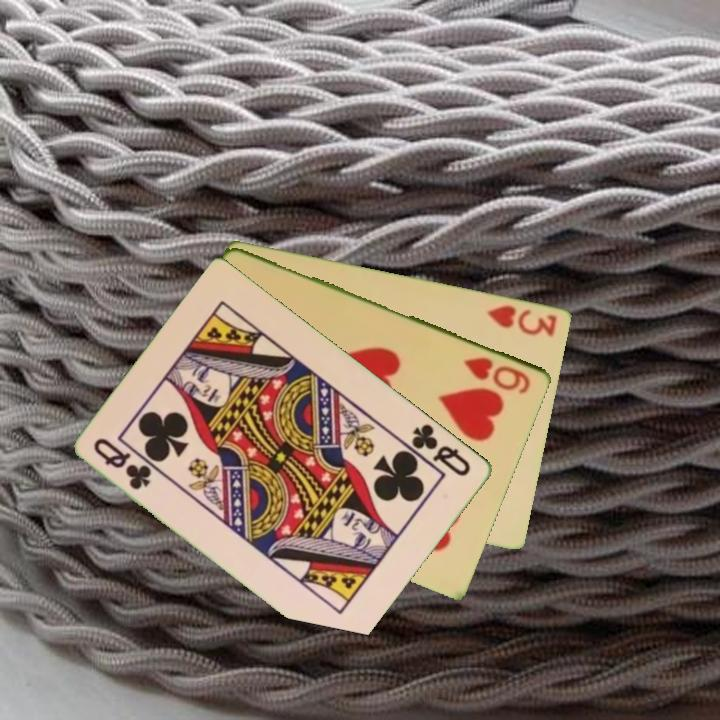3h: (484, 301, 561, 339)
6h: (460, 353, 534, 397)
Qc: (408, 420, 475, 480), (90, 434, 156, 493)
